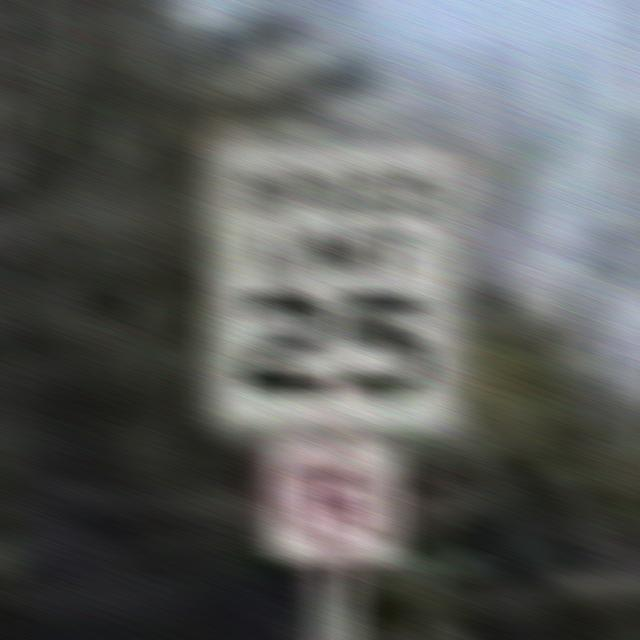speedLimit25: (209, 141, 456, 435)
